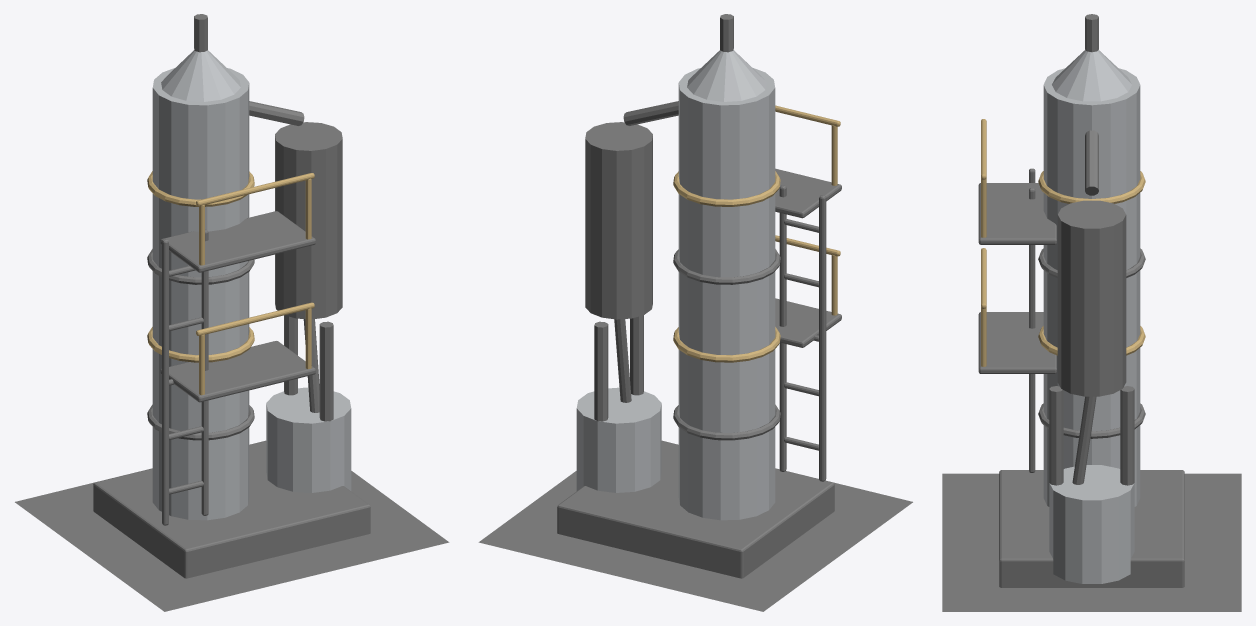
Rendered from distillation-tower.glb.
The picture shows the model from 3 angles, left to right: view 1: azimuth 30°, elevation 25°; view 2: azimuth 150°, elevation 25°; view 3: azimuth 270°, elevation 25°; orthographic projection.
Visible parts, largest first — view 1: column, base, ContactShadow, condenser, tank, platform.001, platform, cap, ladderRail, ladderRail.001, condLeg2, trayRing.001 (+8 smaller); view 2: column, base, ContactShadow, condenser, tank, cap, ladderRail, platform.001, ladderRail.001, platform, condLeg, condLeg2 (+6 smaller); view 3: ContactShadow, column, condenser, base, tank, platform.001, platform, cap, condLeg, condLeg2, ladderRail.001, outPipe (+6 smaller).
Part boxes in pixels (bbox=[...]): column: bbox=[152, 67, 249, 520]; base: bbox=[93, 441, 370, 578]; ContactShadow: bbox=[15, 440, 449, 611]; condenser: bbox=[275, 122, 342, 319]; tank: bbox=[266, 387, 351, 492]; platform.001: bbox=[160, 211, 315, 272]; platform: bbox=[160, 341, 315, 402]; cap: bbox=[161, 50, 240, 101]; ladderRail: bbox=[162, 239, 168, 525]; ladderRail.001: bbox=[201, 229, 208, 515]; condLeg2: bbox=[319, 321, 333, 421]; trayRing.001: bbox=[147, 327, 254, 362]; column: bbox=[678, 67, 775, 520]; base: bbox=[557, 441, 834, 578]; ContactShadow: bbox=[478, 440, 912, 611]; condenser: bbox=[585, 122, 652, 319]; tank: bbox=[576, 387, 661, 492]; cap: bbox=[687, 50, 766, 101]; ladderRail: bbox=[819, 195, 826, 481]; platform.001: bbox=[775, 168, 841, 218]; ladderRail.001: bbox=[779, 185, 786, 471]; platform: bbox=[775, 298, 841, 347]; condLeg: bbox=[594, 321, 608, 421]; condLeg2: bbox=[630, 315, 643, 395]; ContactShadow: bbox=[942, 473, 1241, 611]; column: bbox=[1043, 68, 1140, 506]; condenser: bbox=[1057, 200, 1126, 396]; base: bbox=[999, 470, 1184, 587]; tank: bbox=[1049, 465, 1134, 583]; platform.001: bbox=[978, 183, 1056, 244]; platform: bbox=[978, 312, 1056, 373]; cap: bbox=[1052, 50, 1131, 101]; condLeg: bbox=[1120, 386, 1134, 485]; condLeg2: bbox=[1049, 386, 1063, 485]; ladderRail.001: bbox=[1029, 188, 1035, 472]; outPipe: bbox=[1072, 396, 1096, 484].
Size of the model in its own units: 2.3 by 3.97 by 2.1.
8 materials, 5 textured.
